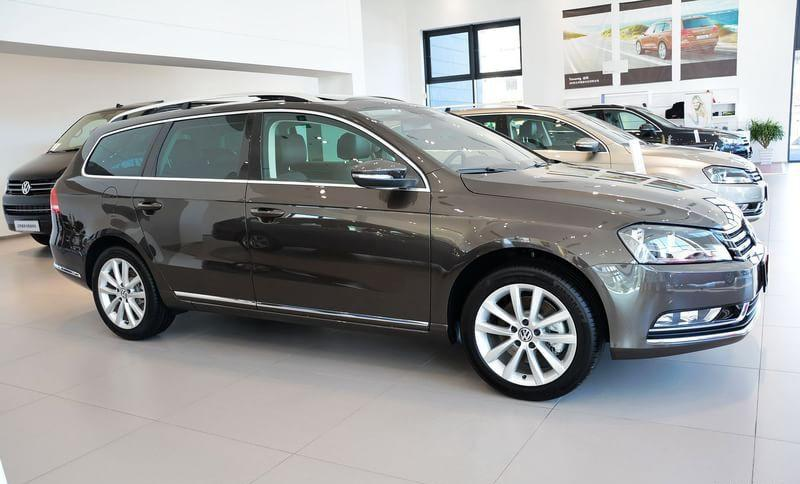Wagon: (48, 90, 770, 403)
